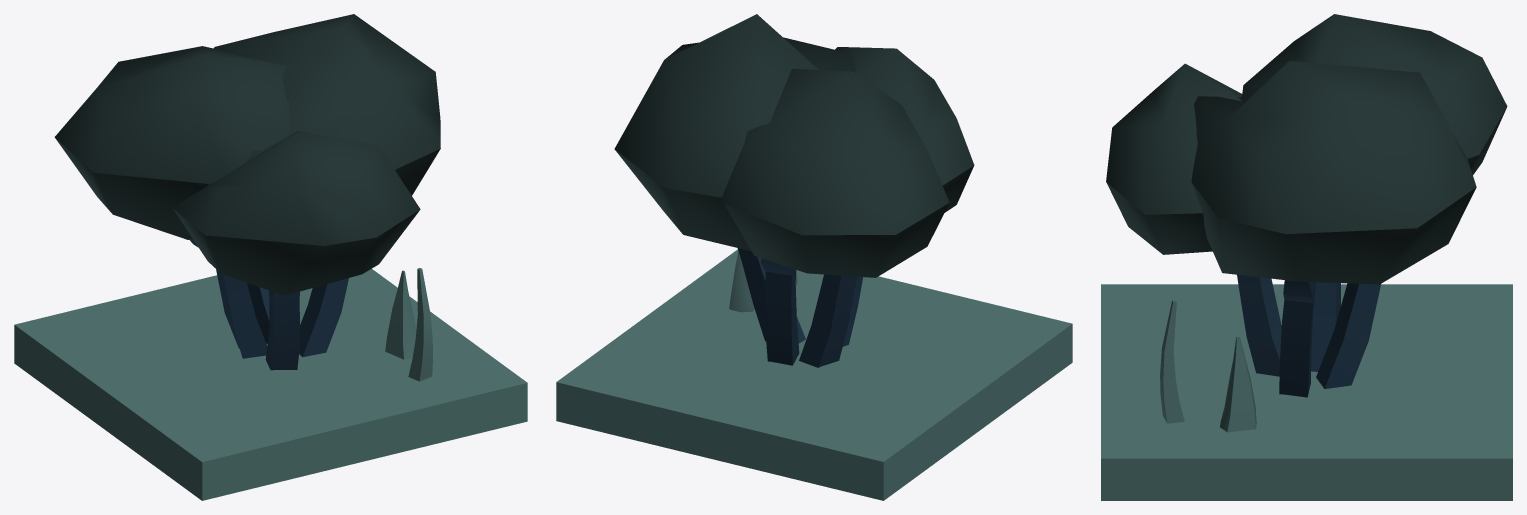
Rendered from ASSET_ENV_bush.fbx.
The picture shows the model from 3 angles, left to right: view 1: azimuth 30°, elevation 25°; view 2: azimuth 150°, elevation 25°; view 3: azimuth 270°, elevation 25°; orthographic projection. The views are drawn at different scales.
Parts seen in each view (by area): view 1: BUSH; view 2: BUSH; view 3: BUSH.
Part boxes in pixels (x1,y1,x2,y2): BUSH: [14, 14, 527, 500]; BUSH: [556, 14, 1072, 500]; BUSH: [1101, 14, 1512, 500].
Bounding box in the file's own units: 1 × 1.04 × 1.
